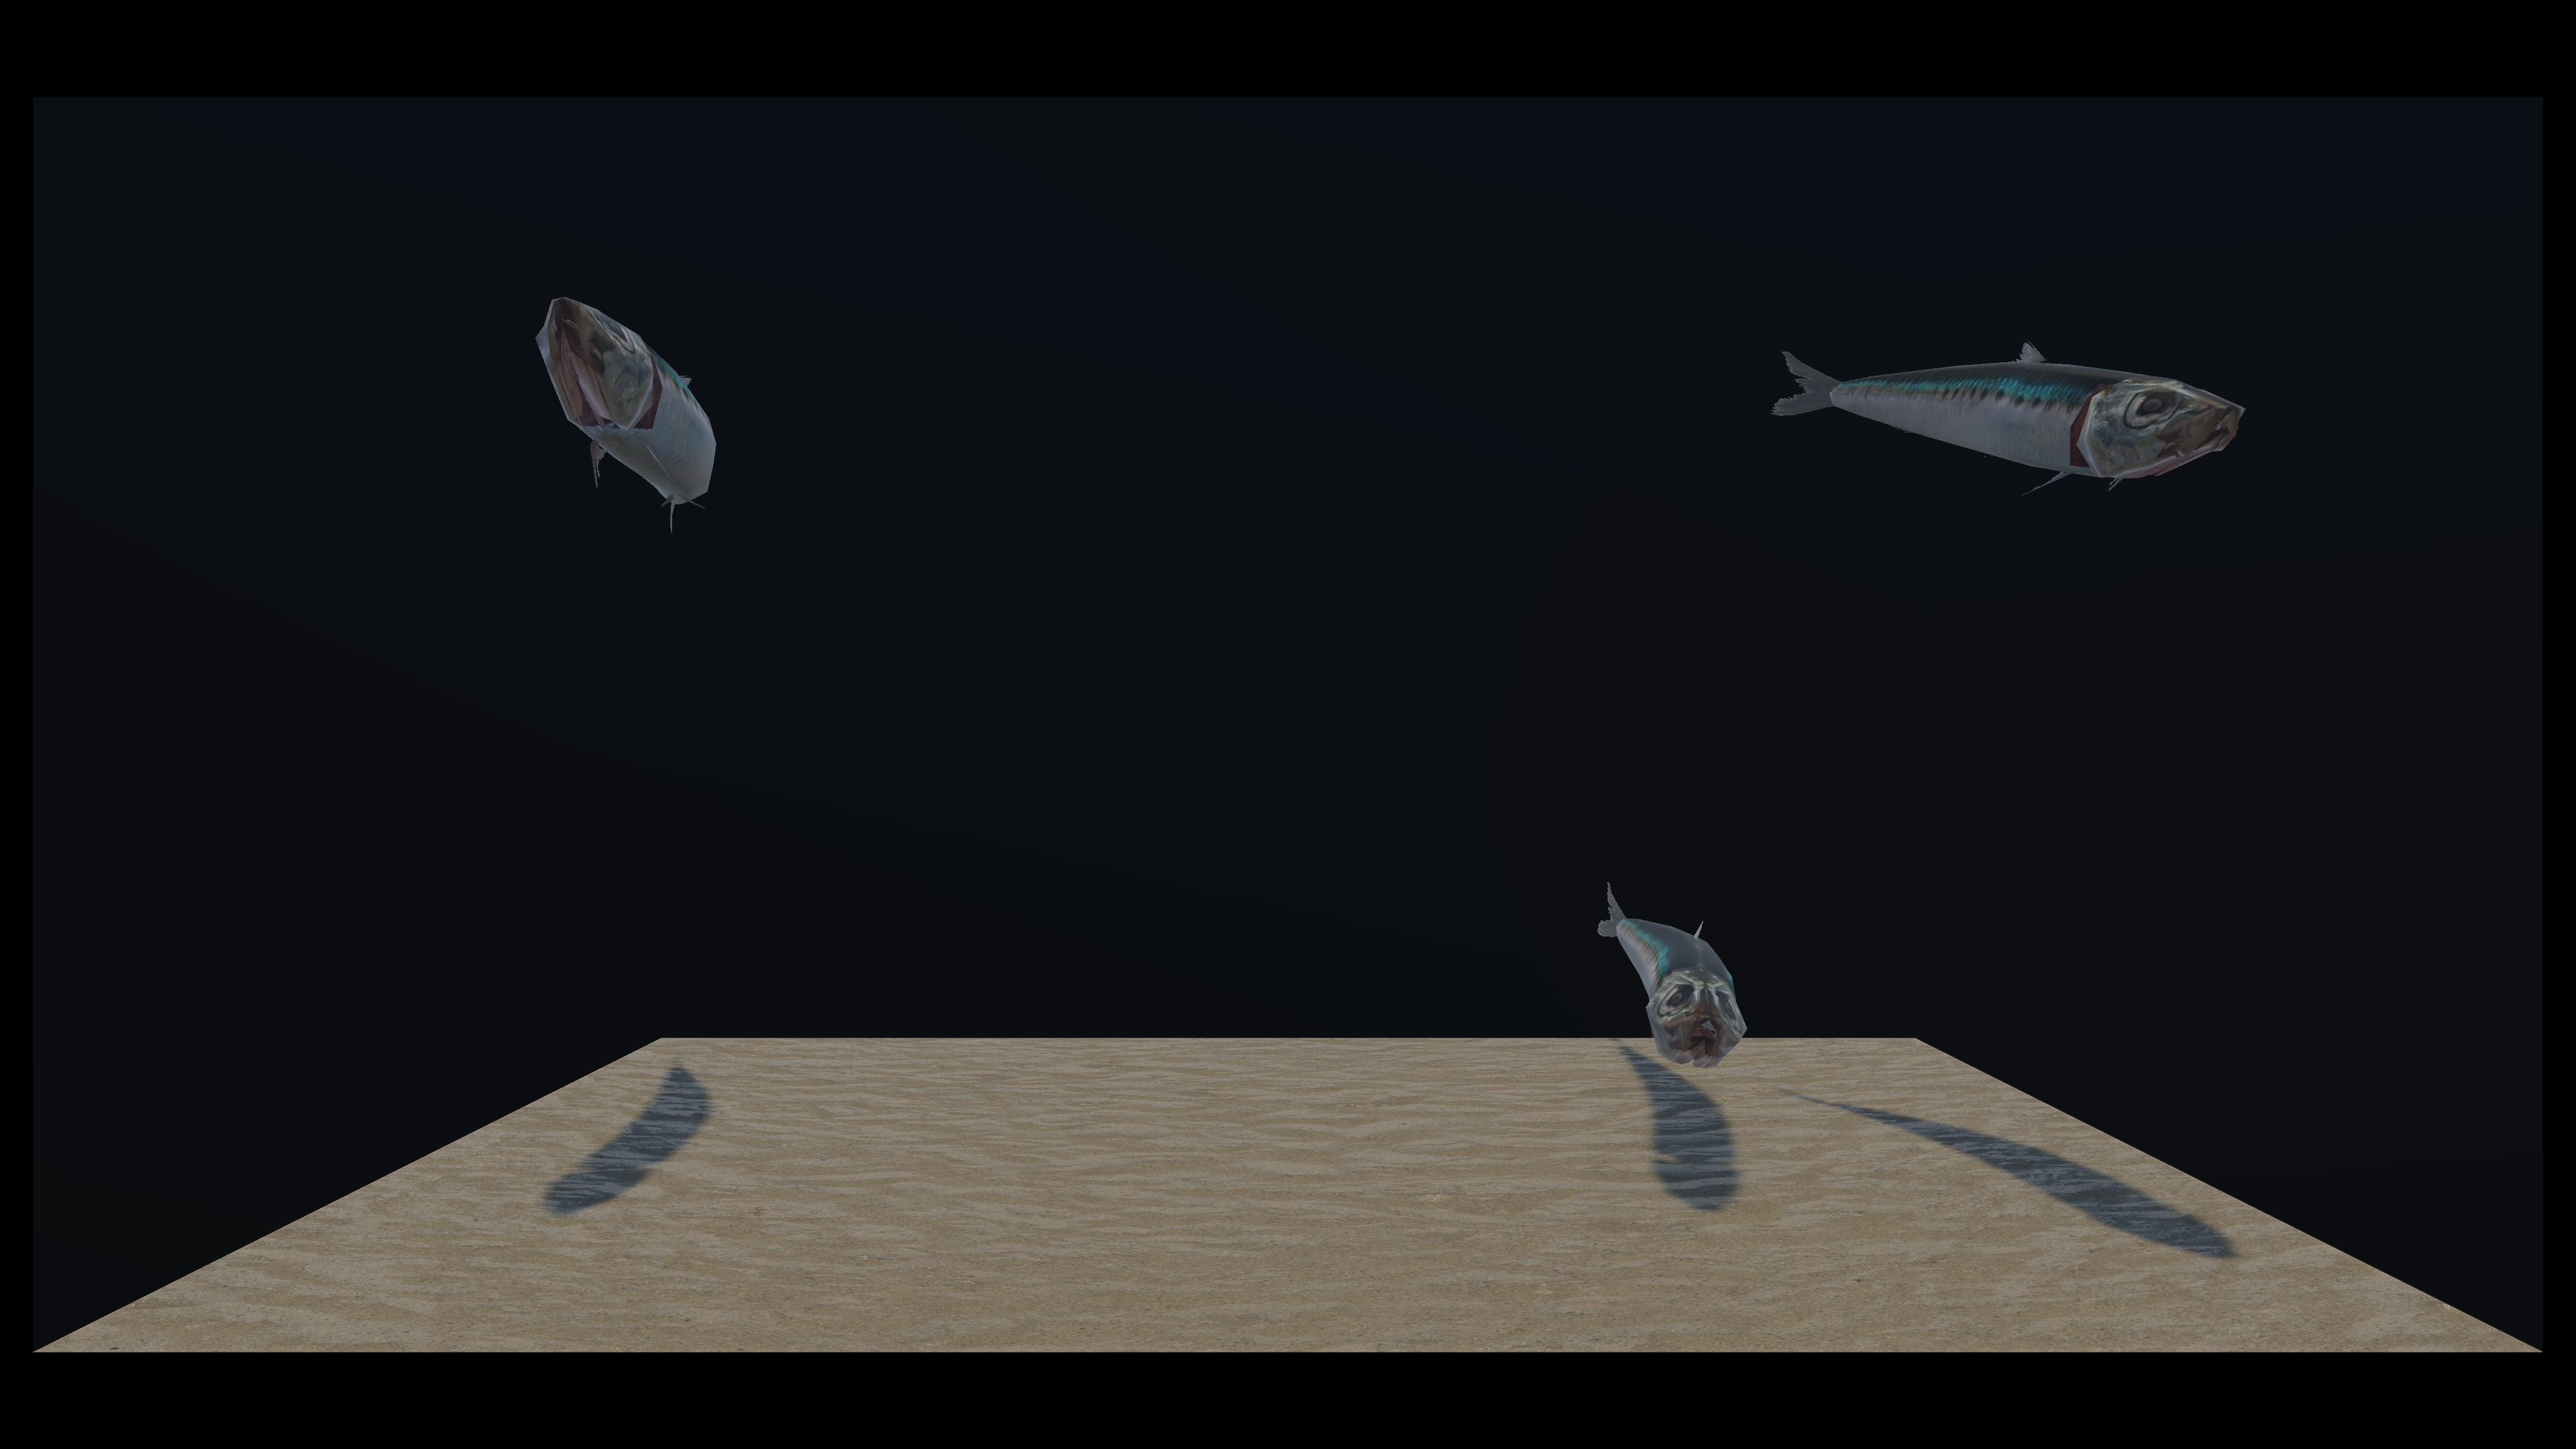Sardine_Front: (642, 364, 1776, 1086), (646, 326, 2227, 568), (531, 299, 715, 533)
